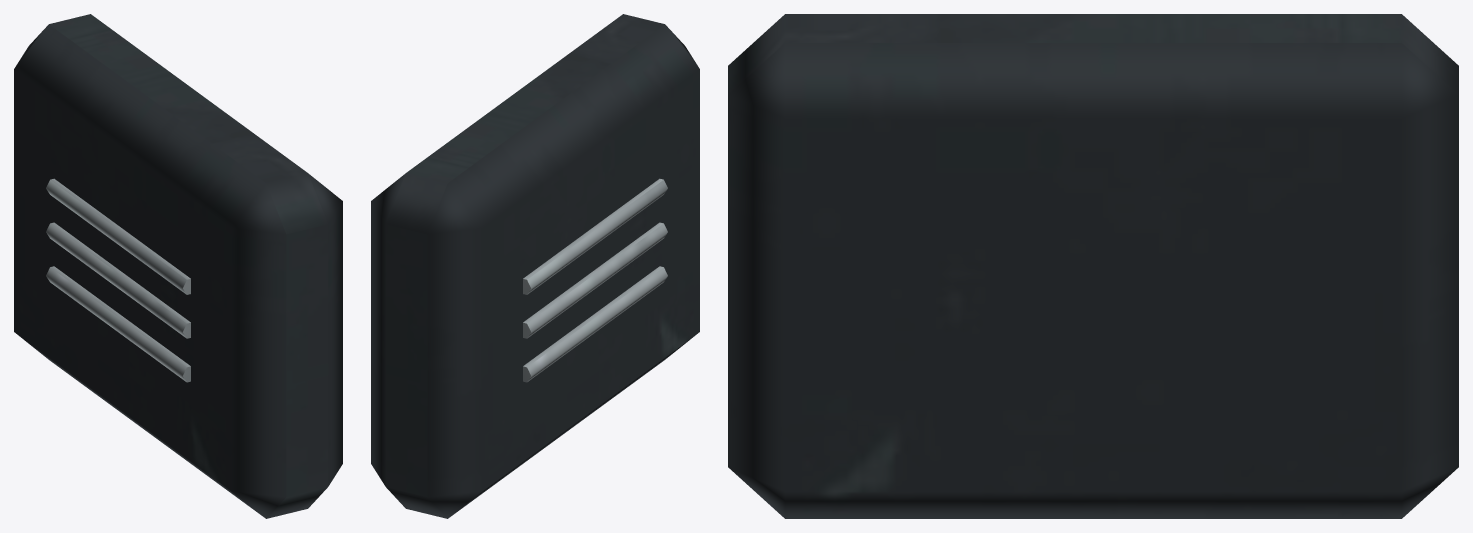
The model's file is prop_test_return.fbx.
3 renders of one model, left to right at view 1: azimuth 30°, elevation 25°; view 2: azimuth 150°, elevation 25°; view 3: azimuth 270°, elevation 25°, orthographic. The views are drawn at different scales.
Parts seen in each view (by area): view 1: SM_prop_test_return; view 2: SM_prop_test_return; view 3: SM_prop_test_return.
Boxes of the visible parts, <box> form: SM_prop_test_return: <box>14,14,342,518</box>; SM_prop_test_return: <box>371,14,699,518</box>; SM_prop_test_return: <box>728,14,1458,518</box>.
Bounding box in the file's own units: 0.0172 × 0.046 × 0.064.
Materials: 2 (2 with a texture image).
